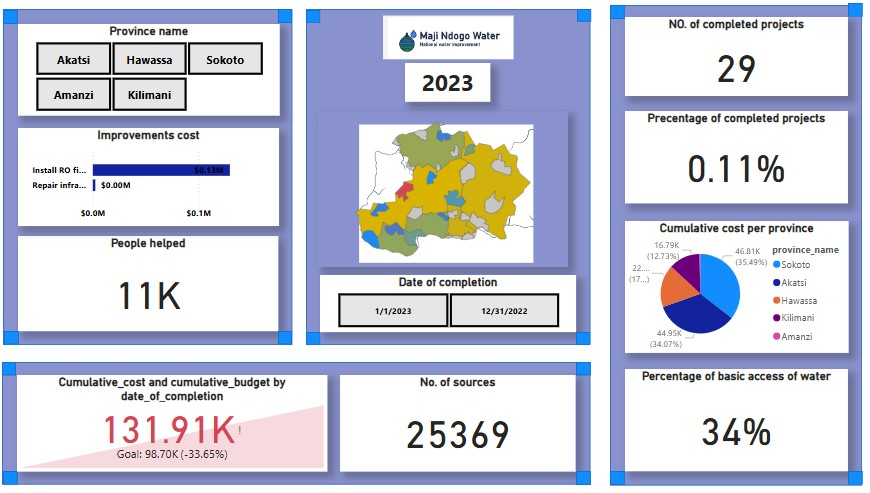

Layout of this report page (visuals, bound fields, positions):
{"tool":"powerbi","page":{"name":"Overview","canvas":[1280,720],"ordinal":0},"visuals":[{"type":"shape","box":[480.3,19.8,403,475.8],"z":0},{"type":"shape","box":[50.4,19.8,410.2,475.8],"z":1000},{"type":"image","box":[519,179,320.2,206],"z":2000},{"type":"shape","box":[911.2,13.5,357.1,680.9],"z":3000},{"type":"card","title":"NO. of completed projects","fields":{"Values":["project_progress.Number_completed_projects"]},"box":[931.9,30.6,315.7,112.4],"z":4000},{"type":"card","title":"Precentage of completed projects","fields":{"Values":["project_progress.Pct_project_complete"]},"box":[931.9,163.7,315.7,131.3],"z":5000},{"type":"shapeMap","fields":{"Category":["project_progress.town"],"Value":["project_progress.Pct_project_complete"]},"box":[497.4,163.7,354.4,221.3],"z":6000},{"type":"actionButton","box":[0,0,100,40],"z":7000},{"type":"card","title":"People helped","fields":{"Values":["water_source.population_now_basic_access"]},"box":[72.9,341.8,368.8,134.9],"z":8000},{"type":"card","title":"Percentage of basic access of water","fields":{"Values":["water_source.Basic_access_to_water"]},"box":[931.9,529.8,315.7,144.8],"z":9000},{"type":"slicer","title":"Date of completion","fields":{"Values":["project_progress.date_of_completion"]},"box":[500.8,396.7,363.1,80.6],"z":10000},{"type":"shape","box":[49.5,520.8,833.8,173.6],"z":11000},{"type":"shape","box":[49.5,520.8,19.8,18.9],"z":12000},{"type":"shape","box":[862.6,519.9,20.7,18.9],"z":13000},{"type":"shape","box":[440.8,476.7,19.8,18.9],"z":14000},{"type":"shape","box":[911.2,674.6,20.7,19.8],"z":15000},{"type":"shape","box":[911.2,13.5,20.7,19.8],"z":16000},{"type":"card","title":"No. of sources","fields":{"Values":["project_progress.No. of sources need to be improved"]},"box":[528.9,537.9,333.7,136.7],"z":17000},{"type":"slicer","title":"Province name","fields":{"Values":["location.province_name"]},"box":[72,40.5,370.6,129.5],"z":18000},{"type":"clusteredBarChart","title":"Improvements cost","fields":{"Category":["project_progress.Aggregated_improvements"],"Y":["Sum(project_progress.cost)"]},"box":[72.4,188.7,370.2,138.7],"z":19000},{"type":"shape","box":[52.2,476.7,20.7,18.9],"z":20000},{"type":"shape","box":[1248,11.4,20.6,19.4],"z":21000},{"type":"shape","box":[1248,674.9,20.6,19.4],"z":22000},{"type":"shape","box":[440.8,19.8,19.8,19.8],"z":23000},{"type":"shape","box":[51.3,20.7,20.7,19.8],"z":24000},{"type":"shape","box":[51.5,674.9,20.6,19.4],"z":25000},{"type":"shape","box":[862.6,674.6,20.7,19.8],"z":26000},{"type":"kpi","fields":{"TrendLine":["project_progress.date_of_completion"],"Goal":["project_progress.cumulative_budget"],"Indicator":["project_progress.Cumulative_cost"]},"box":[70.2,537.9,439.9,136.7],"z":27000},{"type":"pieChart","title":"Cumulative cost per province","fields":{"Y":["project_progress.Cumulative_cost"],"Category":["location.province_name"]},"box":[931.9,320.2,316.6,187.1],"z":28000},{"type":"image","box":[512,23.5,340.7,72.4],"z":29000},{"type":"shape","box":[862.9,477.3,20.4,18.4],"z":30000},{"type":"shape","box":[863.9,20.4,20.4,18.4],"z":31000},{"type":"shape","box":[480.4,477.3,20.4,18.4],"z":32000},{"type":"shape","box":[480.4,21.4,20.4,18.4],"z":33000},{"type":"textbox","box":[620.7,96.2,121.4,54.9],"z":34000}]}

Visuals, with their boxes in screenshot pixels (x1, y1, x2, y2), scaled from the page's 1280x720 canvas onto the 870x493 screenshot:
shape: [x1=326, y1=14, x2=600, y2=339]
shape: [x1=34, y1=14, x2=313, y2=339]
image: [x1=353, y1=123, x2=570, y2=264]
shape: [x1=619, y1=9, x2=862, y2=475]
"NO. of completed projects" card: [x1=633, y1=21, x2=848, y2=98]
"Precentage of completed projects" card: [x1=633, y1=112, x2=848, y2=202]
shapeMap - project_progress.town x project_progress.Pct_project_complete: [x1=338, y1=112, x2=579, y2=264]
actionButton: [x1=0, y1=0, x2=68, y2=27]
"People helped" card: [x1=50, y1=234, x2=300, y2=326]
"Percentage of basic access of water" card: [x1=633, y1=363, x2=848, y2=462]
"Date of completion" slicer: [x1=340, y1=272, x2=587, y2=327]
shape: [x1=34, y1=357, x2=600, y2=475]
shape: [x1=34, y1=357, x2=47, y2=370]
shape: [x1=586, y1=356, x2=600, y2=369]
shape: [x1=300, y1=326, x2=313, y2=339]
shape: [x1=619, y1=462, x2=633, y2=475]
shape: [x1=619, y1=9, x2=633, y2=23]
"No. of sources" card: [x1=359, y1=368, x2=586, y2=462]
"Province name" slicer: [x1=49, y1=28, x2=301, y2=116]
"Improvements cost" clusteredBarChart: [x1=49, y1=129, x2=301, y2=224]
shape: [x1=35, y1=326, x2=50, y2=339]
shape: [x1=848, y1=8, x2=862, y2=21]
shape: [x1=848, y1=462, x2=862, y2=475]
shape: [x1=300, y1=14, x2=313, y2=27]
shape: [x1=35, y1=14, x2=49, y2=28]
shape: [x1=35, y1=462, x2=49, y2=475]
shape: [x1=586, y1=462, x2=600, y2=475]
kpi - project_progress.date_of_completion x project_progress.cumulative_budget: [x1=48, y1=368, x2=347, y2=462]
"Cumulative cost per province" pieChart: [x1=633, y1=219, x2=849, y2=347]
image: [x1=348, y1=16, x2=580, y2=66]
shape: [x1=587, y1=327, x2=600, y2=339]
shape: [x1=587, y1=14, x2=601, y2=27]
shape: [x1=327, y1=327, x2=340, y2=339]
shape: [x1=327, y1=15, x2=340, y2=27]
textbox: [x1=422, y1=66, x2=504, y2=103]
